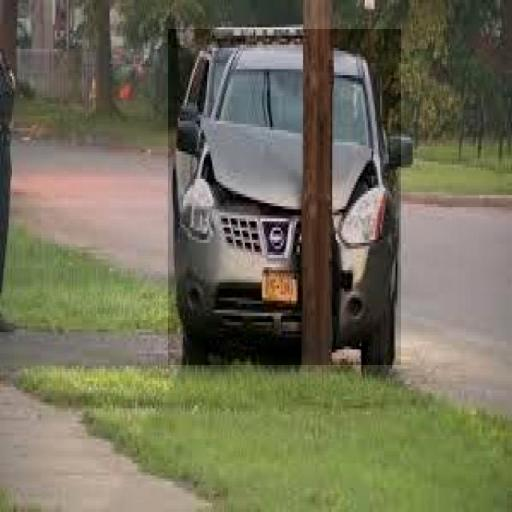小汽车撞物: (168, 30, 401, 366)
